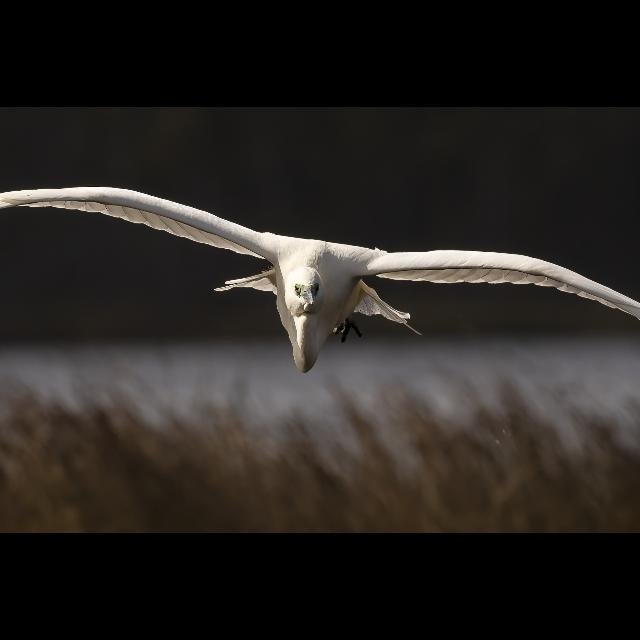egret: (0, 178, 640, 378)
